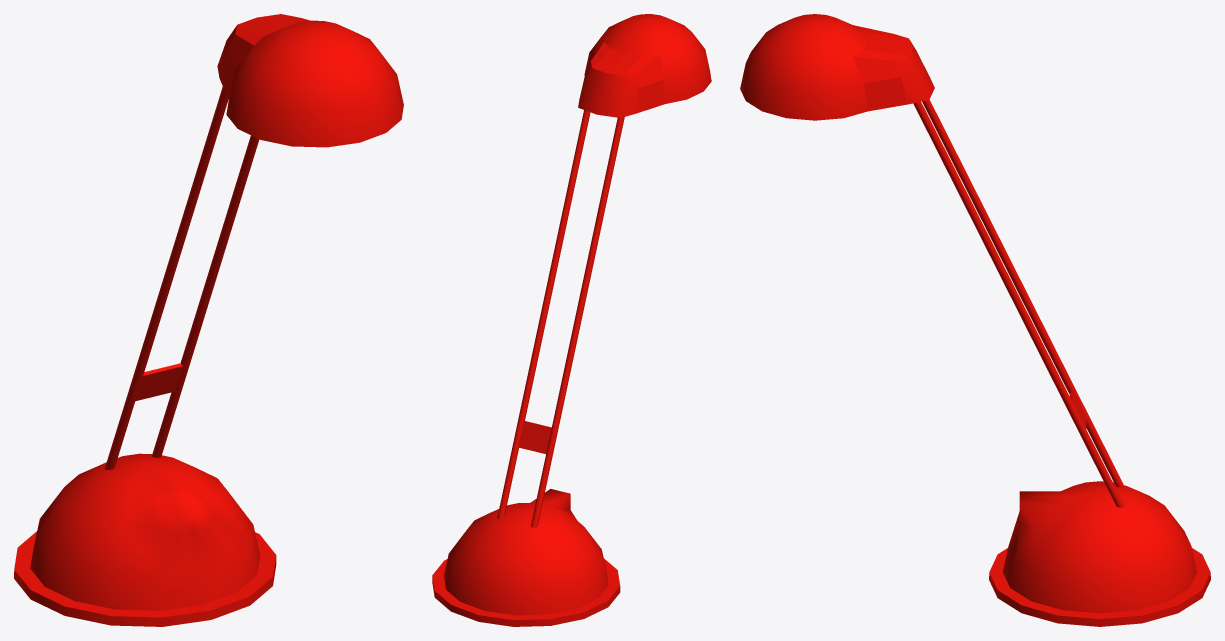
Rendered from LampDesk.FBX.
3 views of the same model, side by side, from view 1: azimuth 30°, elevation 25°; view 2: azimuth 150°, elevation 25°; view 3: azimuth 270°, elevation 25° (orthographic). The views are drawn at different scales.
Parts seen in each view (by area): view 1: Sphere001; view 2: Sphere001; view 3: Sphere001.
Part boxes in pixels (x1,y1,x2,y2): Sphere001: [14, 14, 403, 626]; Sphere001: [432, 14, 711, 626]; Sphere001: [740, 14, 1210, 626].
Bounding box in the file's own units: 27.8 × 59.02 × 77.33.
